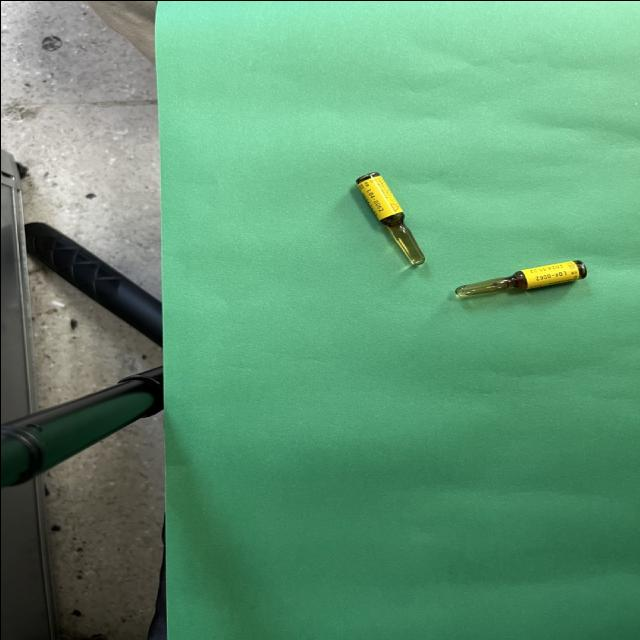Ampoules: (355, 172, 423, 264), (455, 260, 586, 296)
